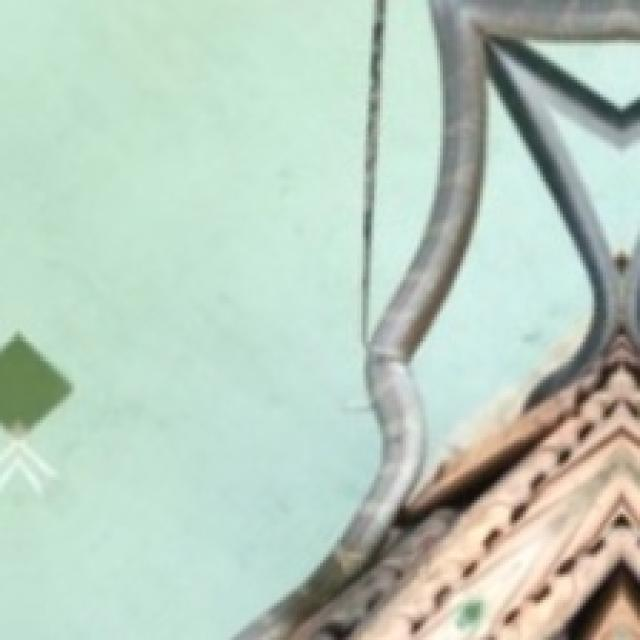king cobra: (237, 0, 637, 637), (406, 74, 594, 489)
